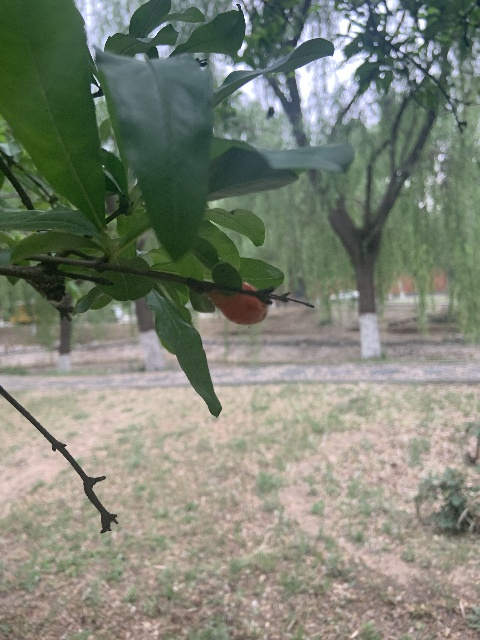bud: (206, 281, 267, 324)
